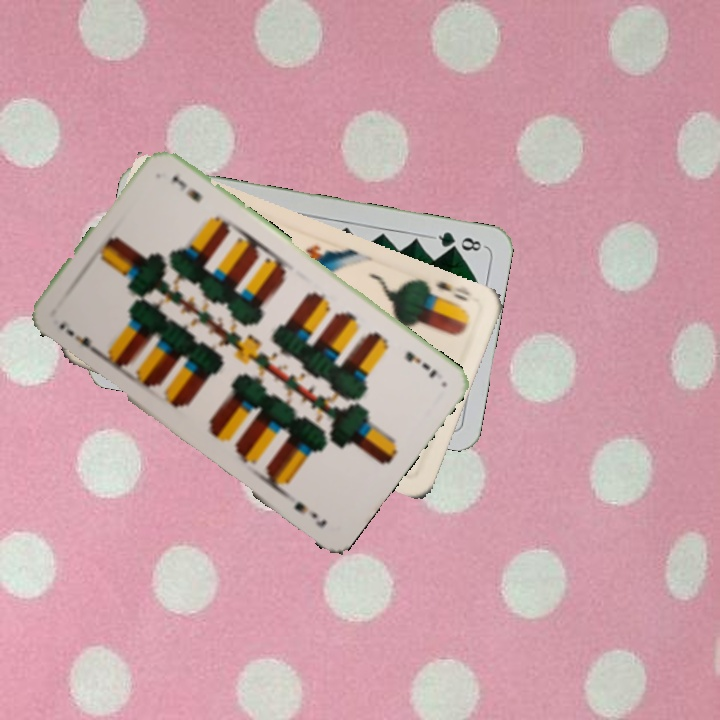E7: (54, 317, 102, 358), (401, 347, 440, 381)
EO: (422, 277, 475, 313)
G8: (428, 227, 487, 254)
